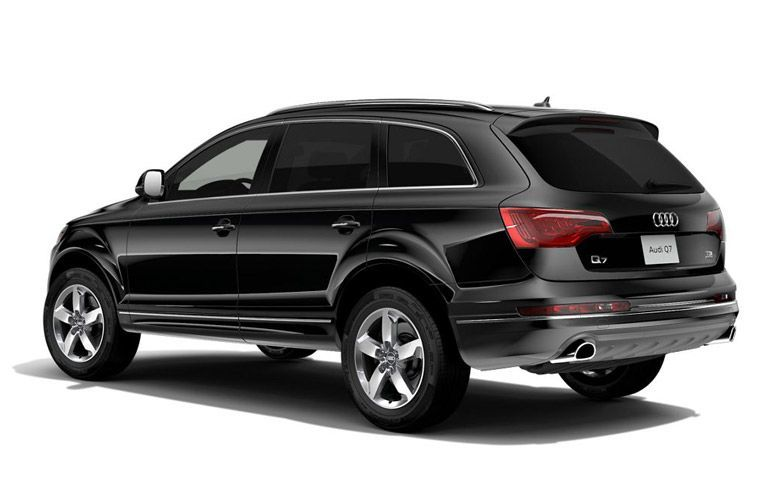audi: (29, 75, 743, 433)
